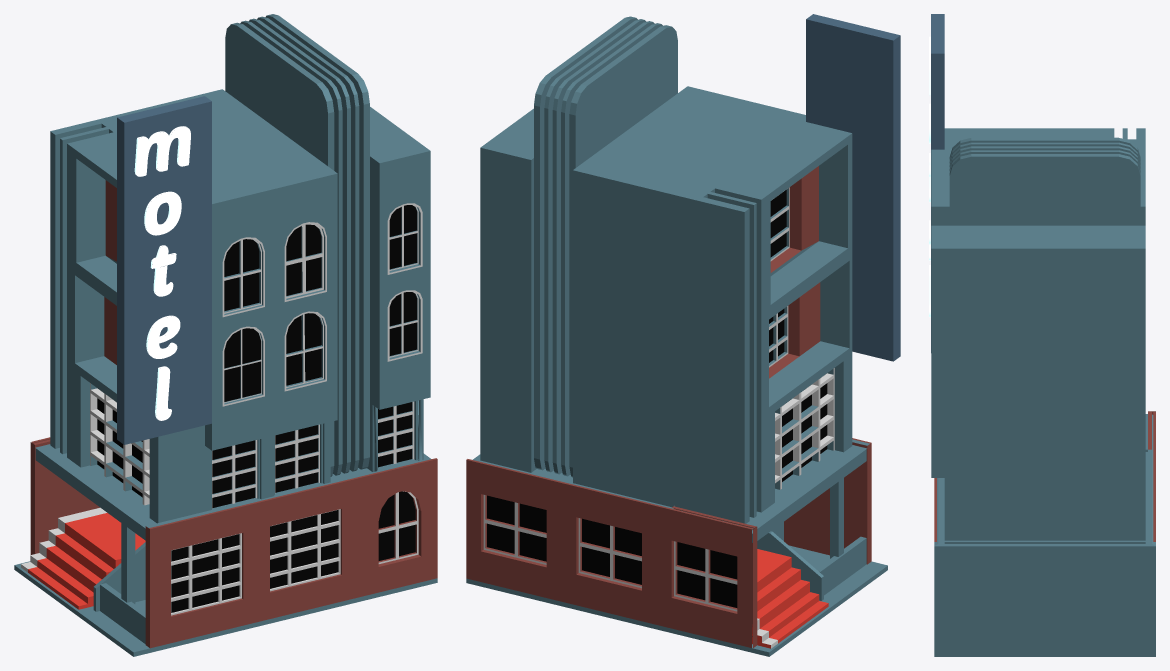
3 views of the same model, side by side, from view 1: azimuth 30°, elevation 25°; view 2: azimuth 150°, elevation 25°; view 3: azimuth 270°, elevation 25° (orthographic). The views are drawn at different scales.
Visible parts, largest first — view 1: Object_59; view 2: Object_59; view 3: Object_59.
Boxes of the visible parts, bbox=[...] form: Object_59: bbox=[14, 14, 437, 656]; Object_59: bbox=[466, 14, 900, 656]; Object_59: bbox=[929, 14, 1155, 656].
Size of the model in its own units: 1.52 by 2.48 by 1.02.
